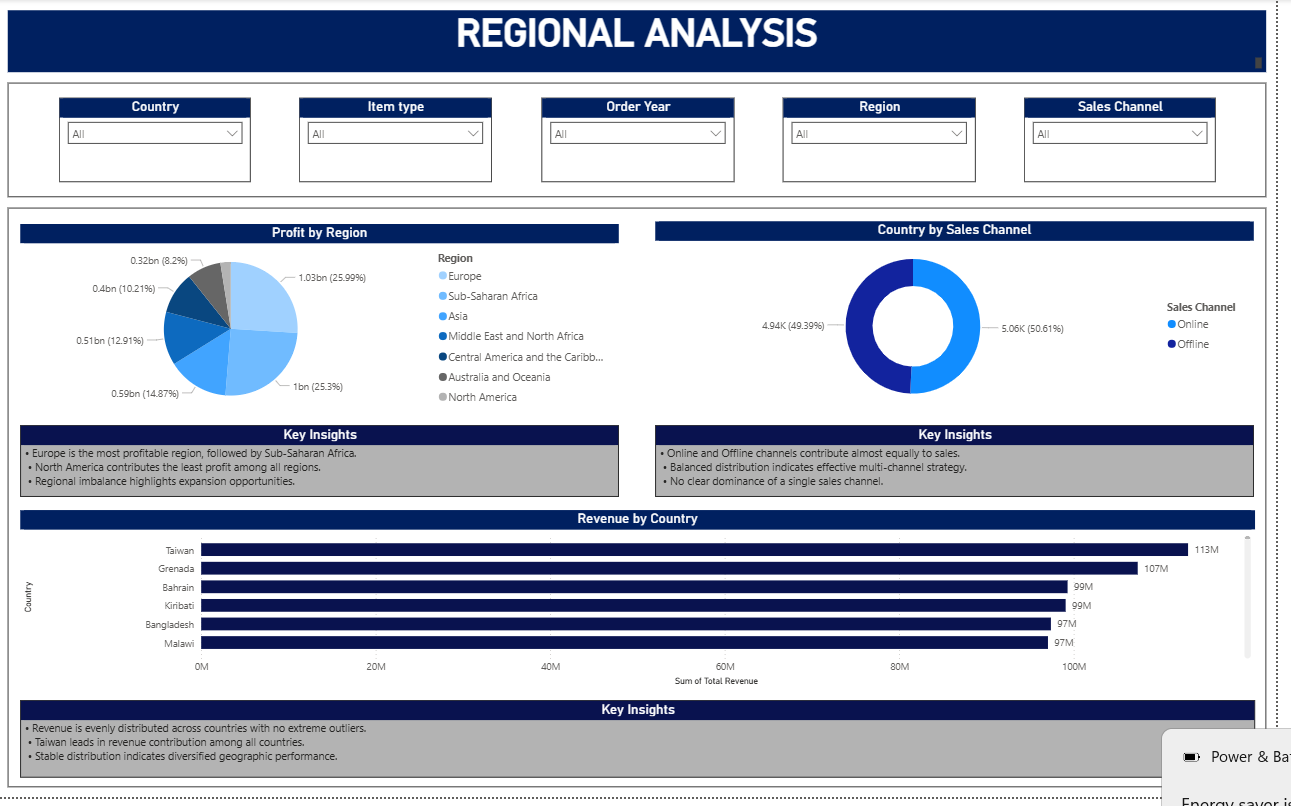

Layout of this report page (visuals, bound fields, positions):
{"tool":"powerbi","page":{"name":"REGIONAL ANALYSIS","canvas":[1600,1000],"ordinal":2},"visuals":[{"type":"textbox","box":[10.4,105.4,1575.7,143.4],"z":0},{"type":"textbox","box":[10.4,260.9,1575.7,725.6],"z":1000},{"type":"textbox","title":"REGIONAL ANALYSIS","box":[10.4,13.8,1575.7,77.7],"z":2000},{"type":"pieChart","title":"Profit by Region","fields":{"Category":["Sales Data.Region"],"Y":["Sum(Sales Data.Total Profit)"]},"box":[25.9,281.6,749.8,243.6],"z":3000},{"type":"slicer","title":"Country","fields":{"Values":["Sales Data.Country"]},"box":[75.1,122.9,240,105.7],"z":4000},{"type":"slicer","title":"Item type","fields":{"Values":["Sales Data.Item Type"]},"box":[376.2,122.9,241.4,105.7],"z":5000},{"type":"slicer","title":"Order Year","fields":{"Values":["Sales Data.Order Year"]},"box":[678.7,122.9,241.4,105.7],"z":6000},{"type":"slicer","title":"Sales Channel","fields":{"Values":["Sales Data.Sales Channel"]},"box":[1283.7,122.9,240,105.7],"z":7000},{"type":"slicer","title":"Region","fields":{"Values":["Sales Data.Country","Sales Data.Region"]},"box":[981.2,122.9,241.4,105.7],"z":8000},{"type":"donutChart","title":"Country by Sales Channel","fields":{"Category":["Sales Data.Sales Channel"],"Y":["CountNonNull(Sales Data.Country)"]},"box":[822.4,278.2,749.8,243.6],"z":9000},{"type":"clusteredBarChart","title":"Revenue by Country","fields":{"Category":["Sales Data.Country"],"Y":["Sum(Sales Data.Total Revenue)"]},"box":[25.9,641,1546.3,224.6],"z":10000},{"type":"textbox","title":"Key Insights","box":[25.9,533.9,749.8,89.8],"z":11000},{"type":"textbox","title":"Key Insights","box":[822.4,533.9,749.8,89.8],"z":12000},{"type":"textbox","title":"Key Insights","box":[25.9,877.7,1546.3,96.8],"z":13000}]}

Visuals, with their boxes on the page's 1600x1000 design canvas (x1, y1, x2, y2). These are canvas units, not pixel positions in the 1291x806 screenshot, which may show the page scaled, cropped or inside an application window:
textbox: (10,105,1586,249)
textbox: (10,261,1586,986)
"REGIONAL ANALYSIS" textbox: (10,14,1586,92)
"Profit by Region" pieChart: (26,282,776,525)
"Country" slicer: (75,123,315,229)
"Item type" slicer: (376,123,618,229)
"Order Year" slicer: (679,123,920,229)
"Sales Channel" slicer: (1284,123,1524,229)
"Region" slicer: (981,123,1223,229)
"Country by Sales Channel" donutChart: (822,278,1572,522)
"Revenue by Country" clusteredBarChart: (26,641,1572,866)
"Key Insights" textbox: (26,534,776,624)
"Key Insights" textbox: (822,534,1572,624)
"Key Insights" textbox: (26,878,1572,974)
